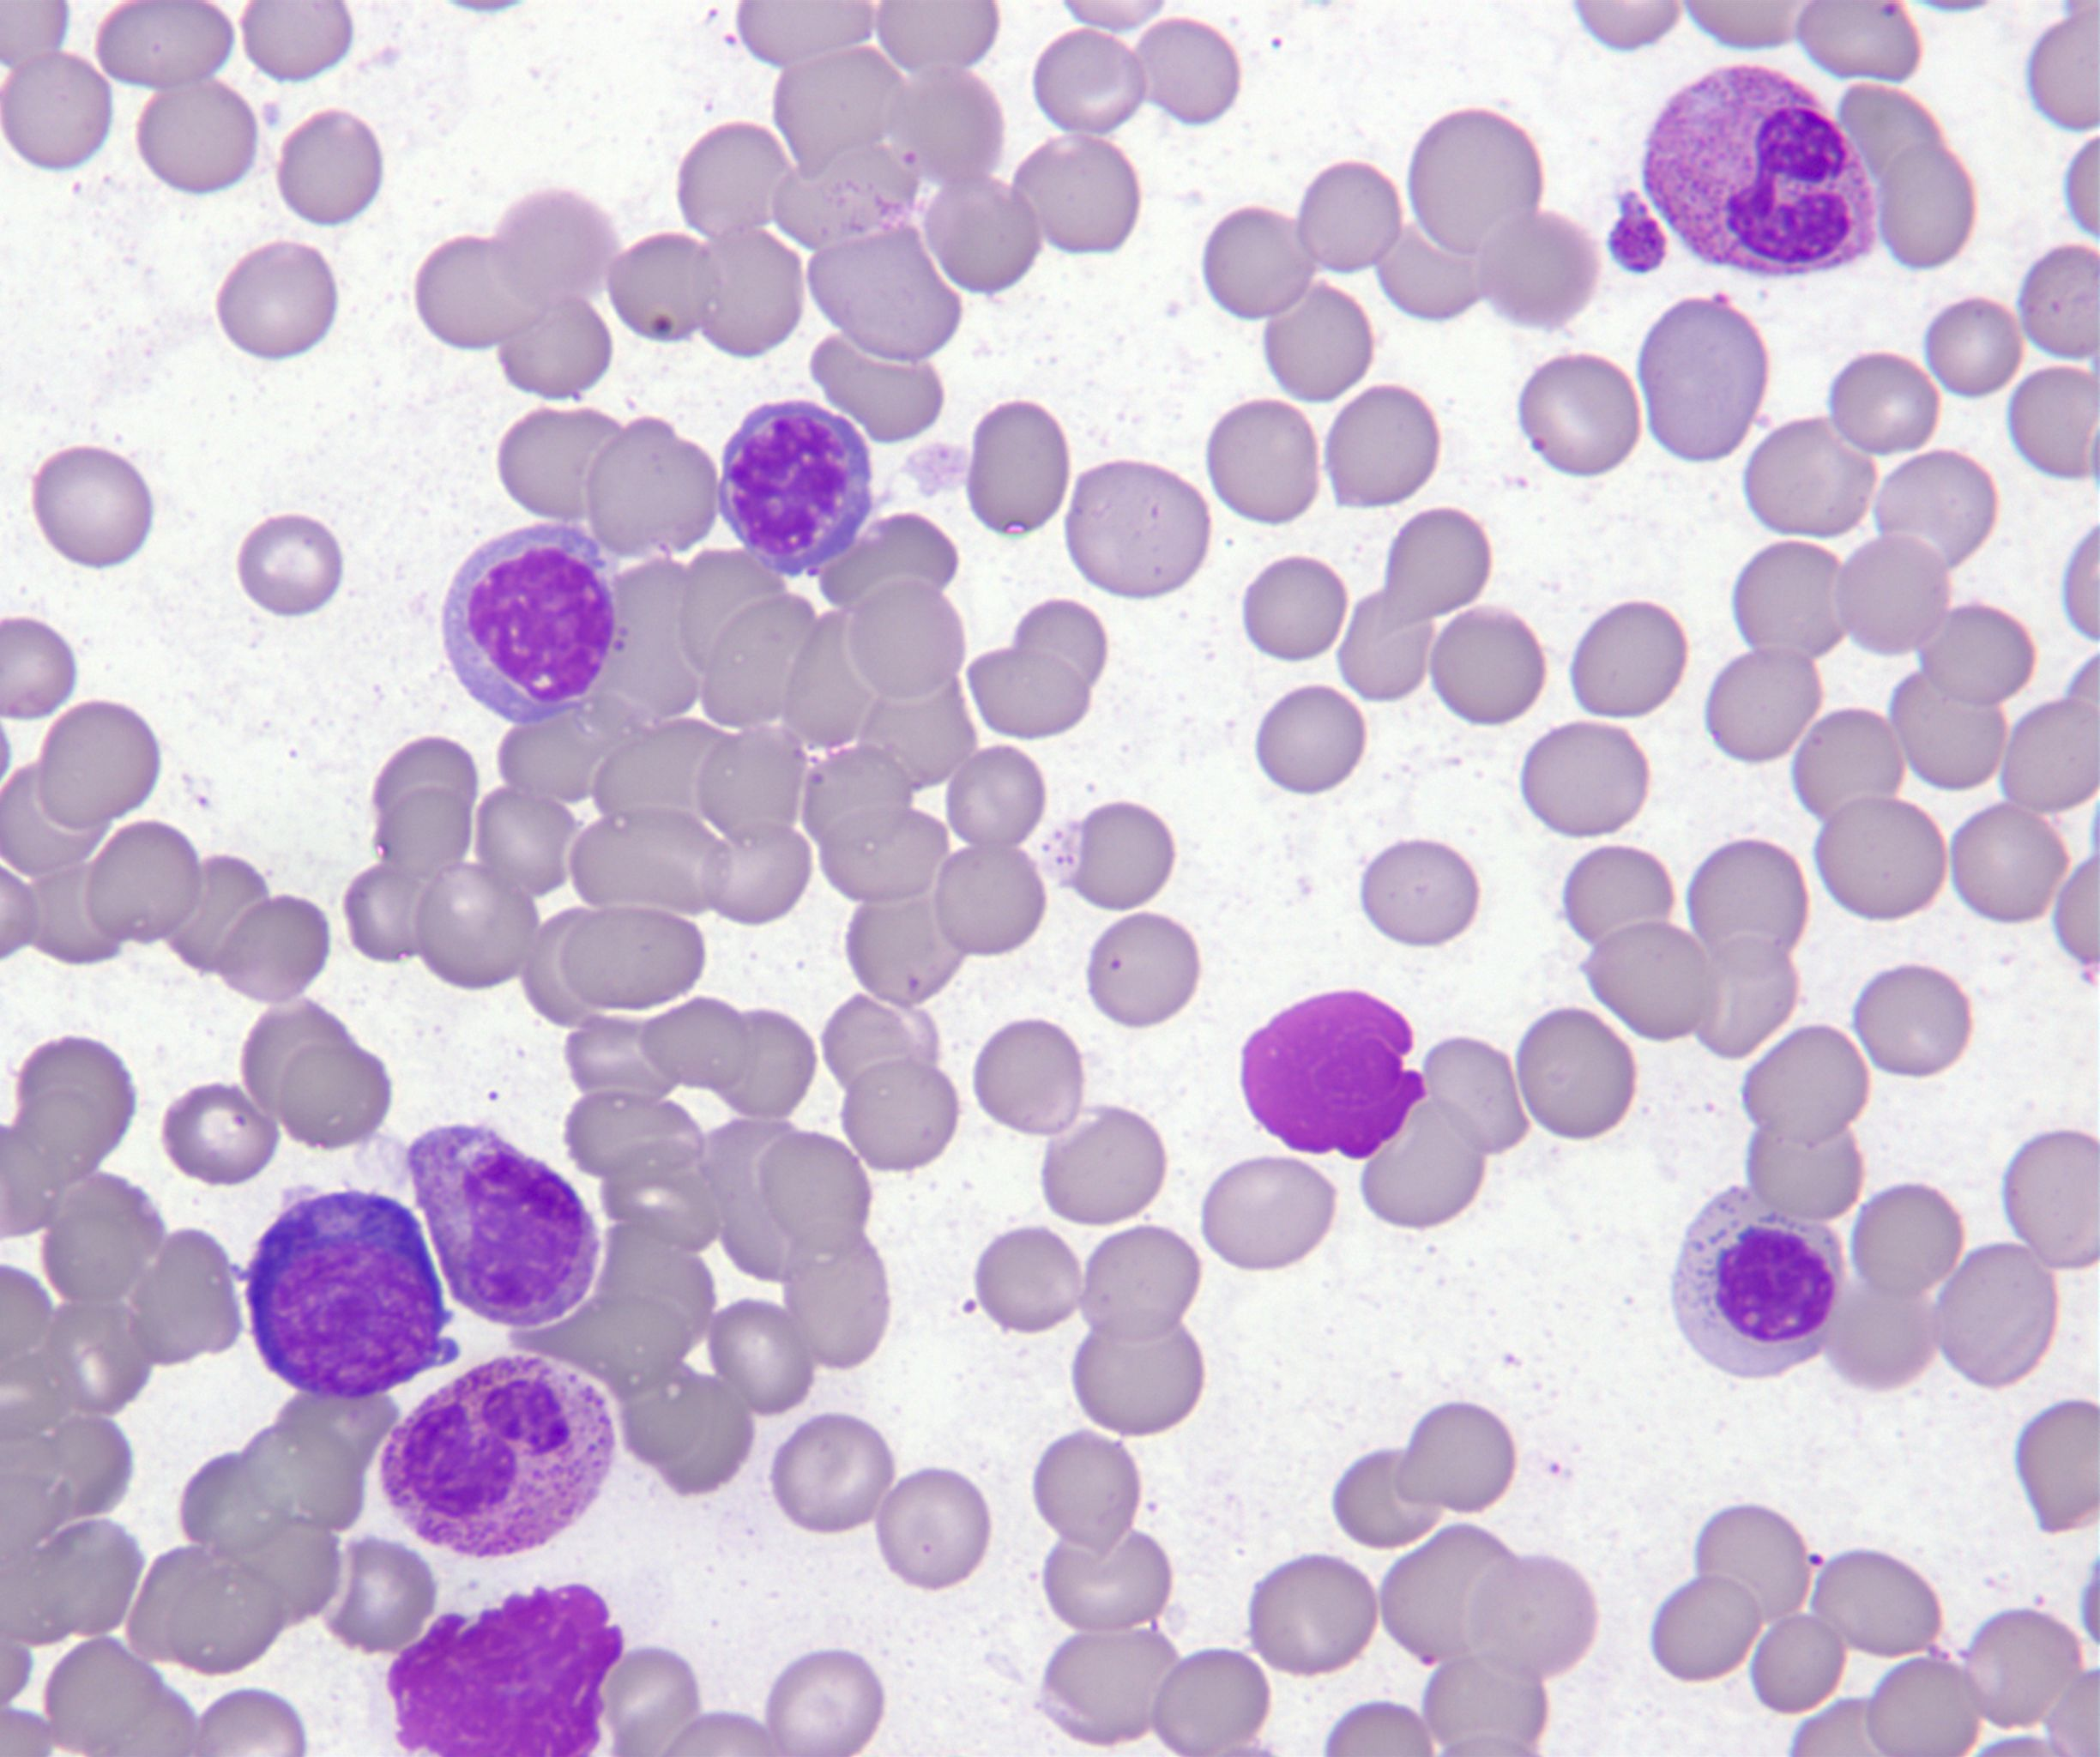22: (249, 1193, 457, 1398)
23: (443, 525, 617, 724), (717, 401, 872, 572)
24: (1674, 1188, 1840, 1378)
4: (408, 1127, 598, 1326)
5: (1641, 65, 1880, 276), (378, 1356, 616, 1556)
x: (389, 1583, 624, 1757), (1244, 991, 1423, 1160)
